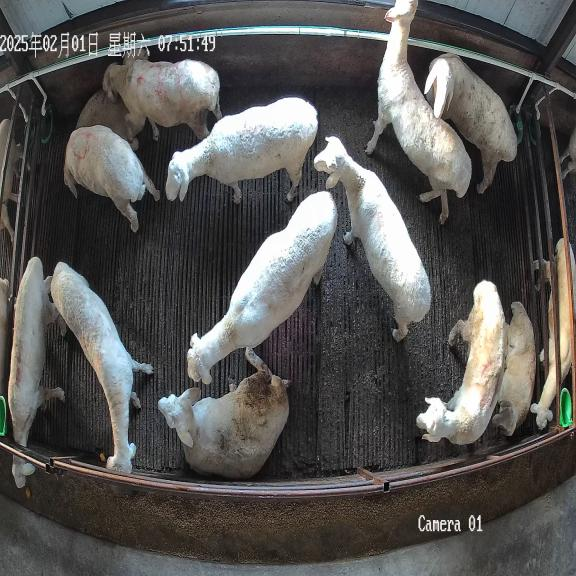lying: (158, 350, 289, 478), (76, 48, 153, 150), (493, 302, 536, 436)
stand: (187, 191, 338, 383), (314, 136, 431, 341), (366, 0, 471, 223), (50, 262, 153, 472), (165, 97, 318, 203), (416, 280, 507, 444), (8, 257, 64, 488), (424, 54, 517, 193), (102, 58, 222, 150), (64, 125, 159, 231)
